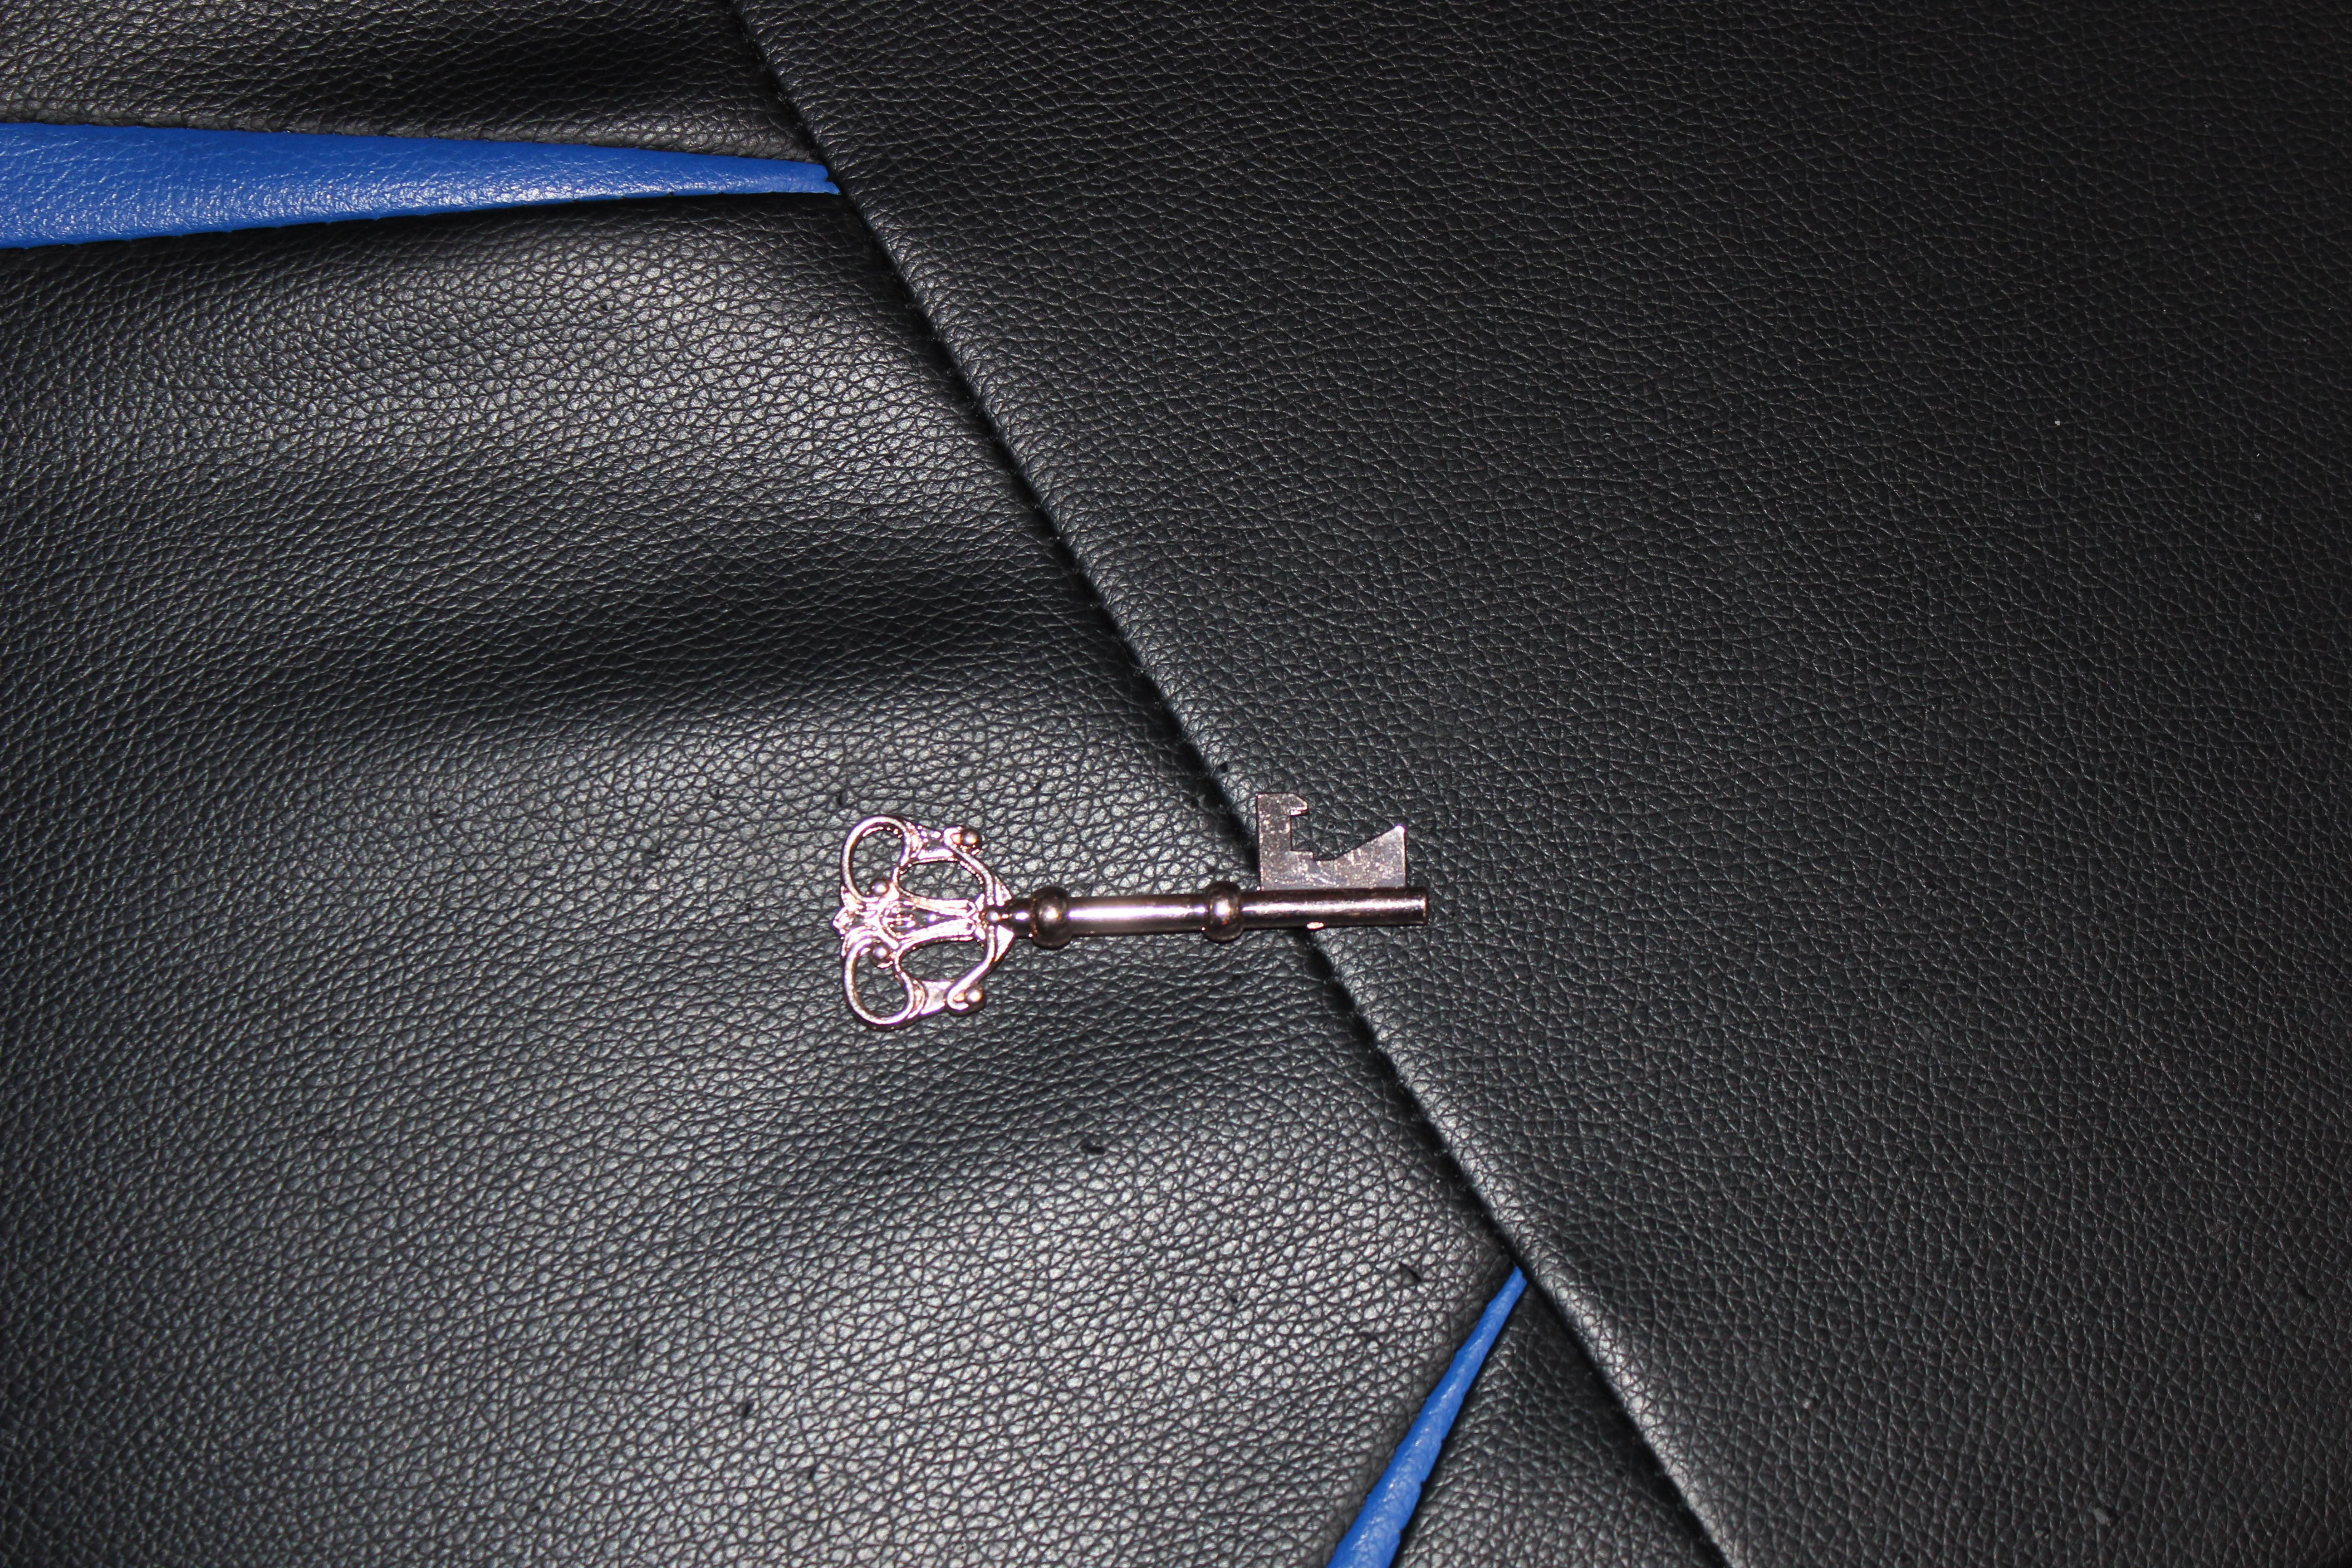metalKey: (798, 770, 1473, 1062)
